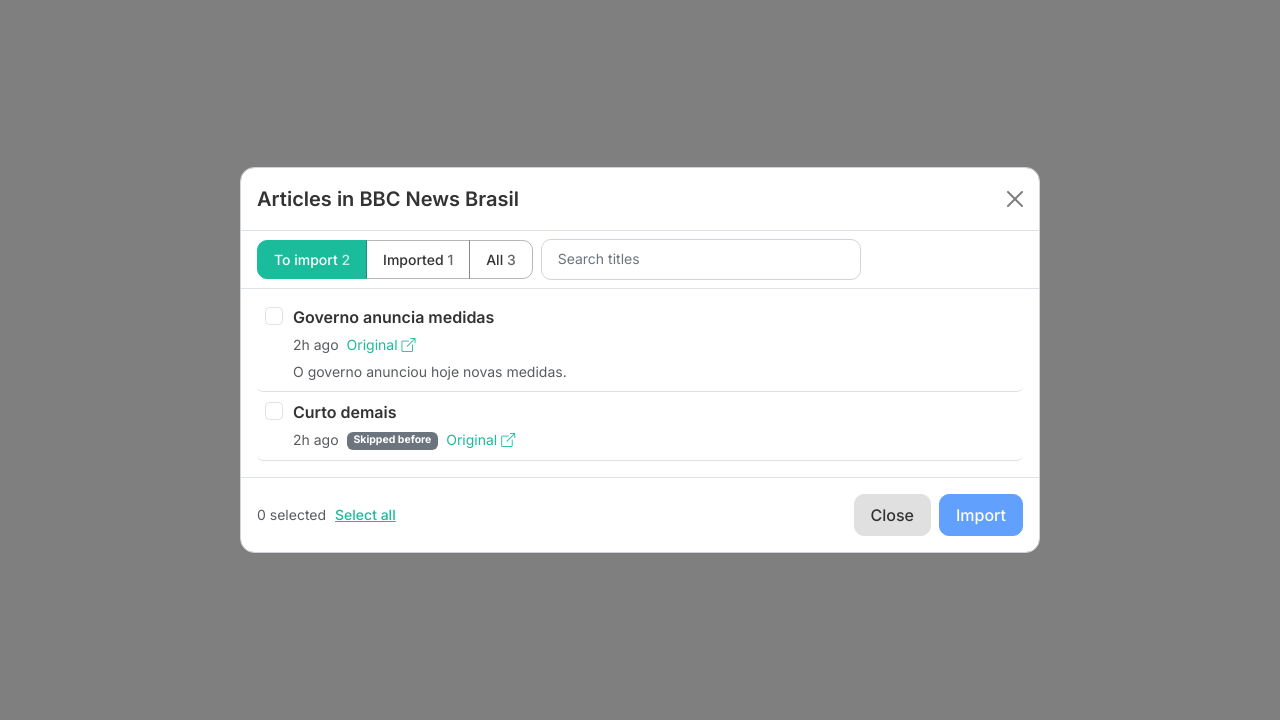
Test: NewsFeedBrowser › an article that couldn't be loaded stays picked, marked to try again
Expected: the text "Governo anuncia medidas" is shown, [293,306,494,326]
Click the checkbox named "Select Governo anuncia medidas" at x=274, y=316, box [265,307,283,324]
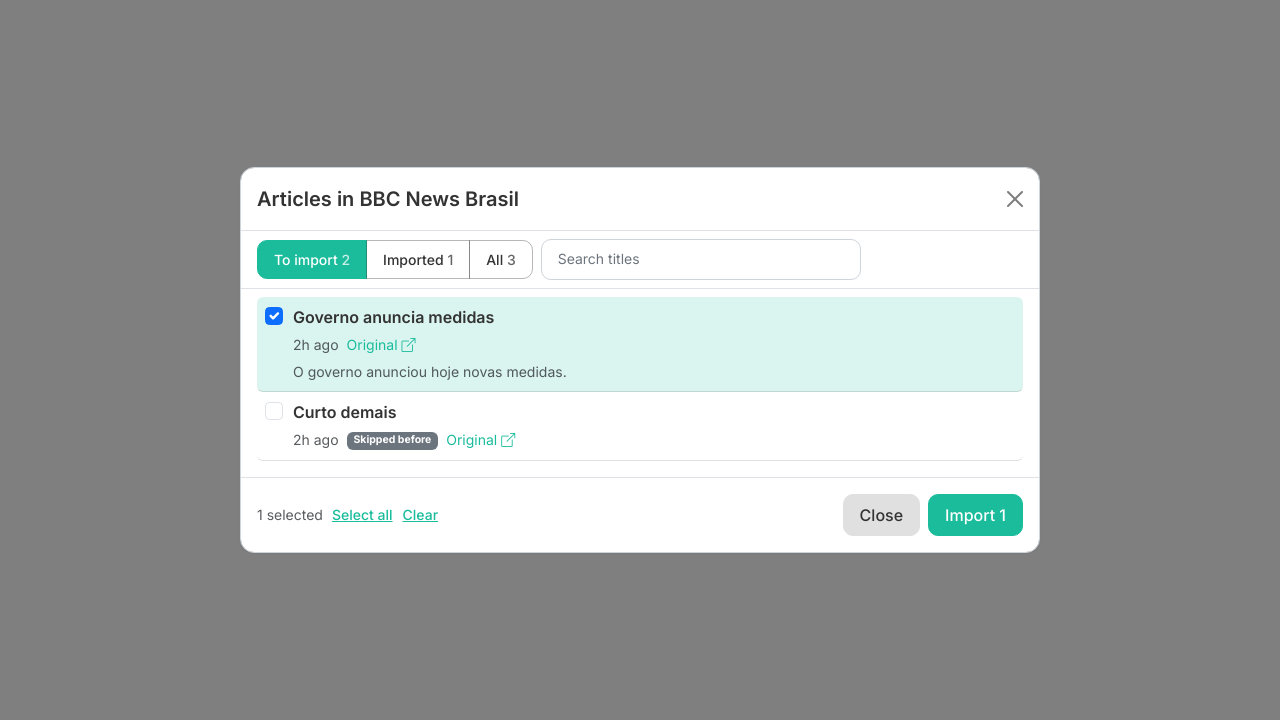
Click the checkbox named "Select Curto demais" at x=274, y=411, box [265,402,283,420]
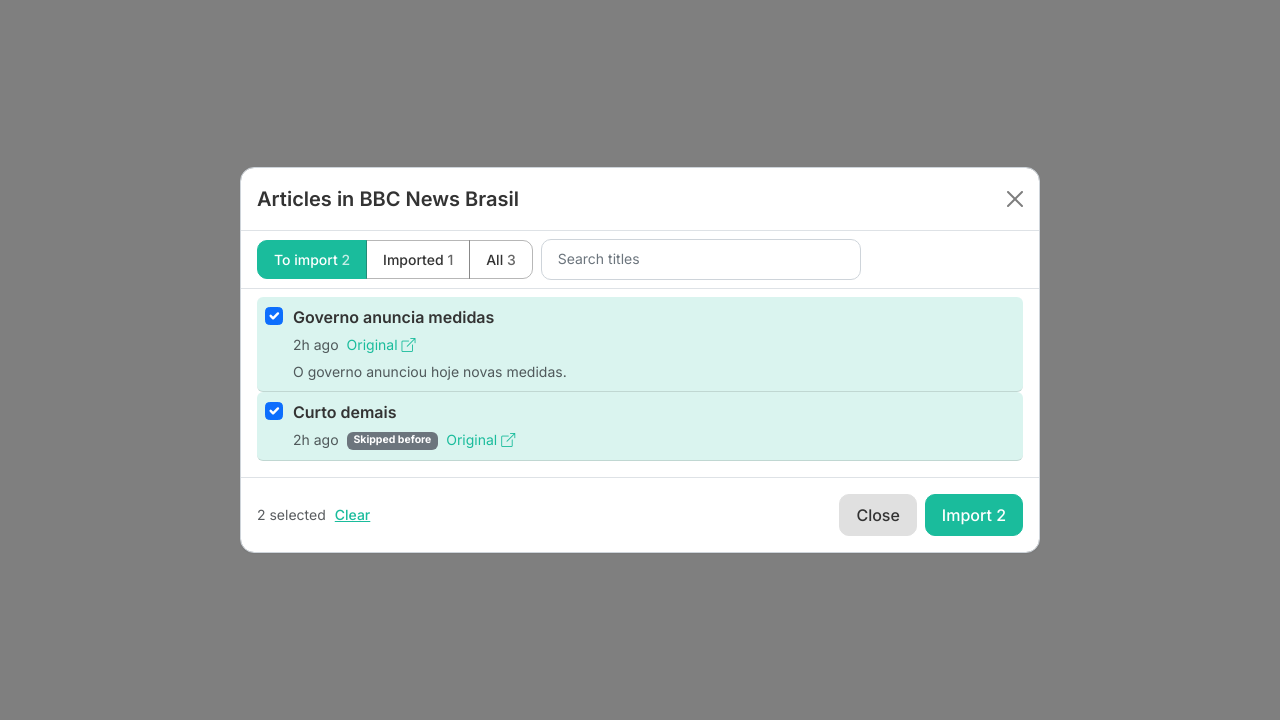
Click the button "Import 2" at x=974, y=515, box [925,494,1023,536]
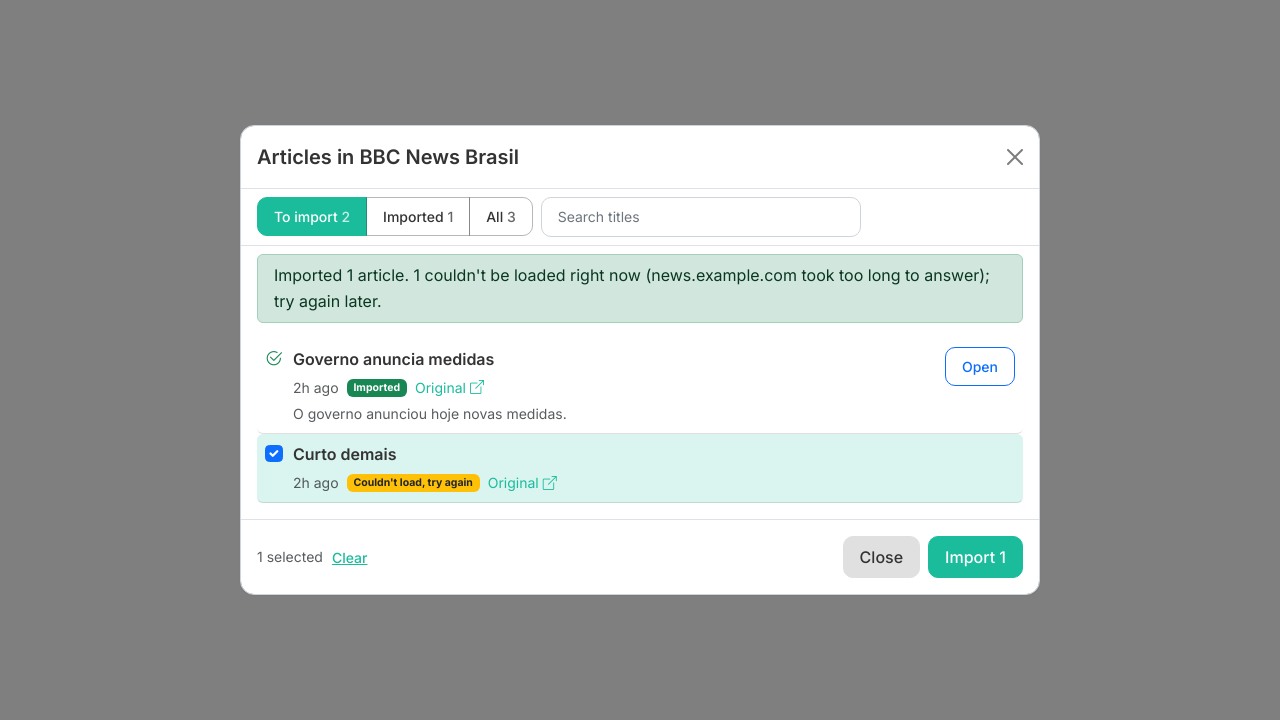
Expected: the checkbox named "Select Curto demais" is checked, [265,445,283,462]
Expected: the text "Couldn't load, try again" is shown, [347,474,480,492]
Expected: the text "Skipped before" is gone
